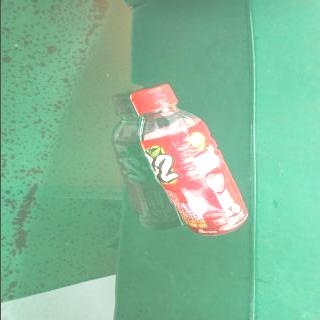bottle: (128, 82, 248, 236)
